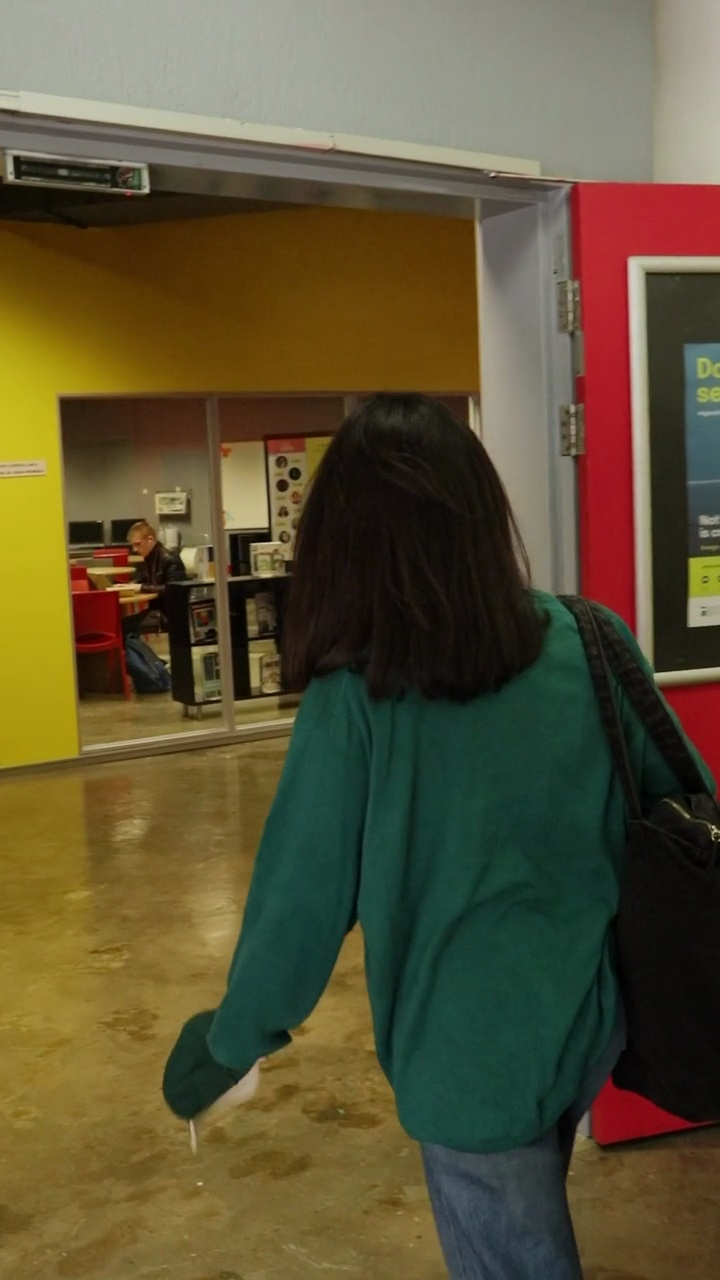dallah: (152, 378, 720, 1225), (138, 938, 273, 1149)
electronics: (58, 130, 546, 741), (169, 126, 474, 727), (0, 127, 270, 781), (23, 322, 264, 784)
perfume_bottle: (195, 0, 720, 671), (496, 2, 720, 679), (60, 553, 140, 709)
